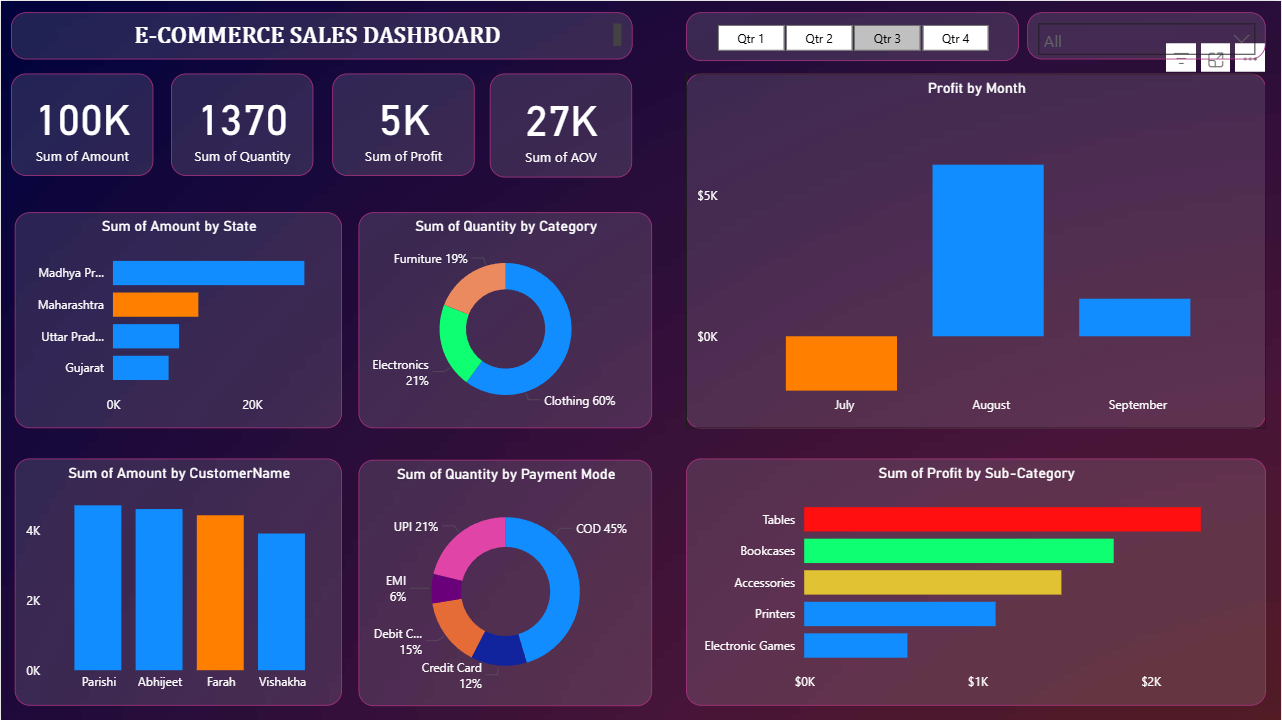

What the dashboard file says about the page in this screenshot:
{"tool":"powerbi","page":{"name":"Page 1","canvas":[1280,720],"ordinal":0},"visuals":[{"type":"textbox","box":[10,11.2,621.2,47.5],"z":0},{"type":"columnChart","title":"Profit by Month","fields":{"Category":["Orders_Updated.Order Date.Variation.Date Hierarchy.Month"],"Y":["Details.Profit"]},"box":[685,72.5,580,355],"z":1000},{"type":"clusteredBarChart","fields":{"Category":["Details.Sub-Category"],"Y":["Details.Profit"]},"box":[685,457.5,580,247.5],"z":2000},{"type":"card","fields":{"Values":["Details.Amount"]},"box":[10,72.5,142.5,102.5],"z":3000},{"type":"donutChart","title":"Sum of Quantity by Payment Mode","fields":{"Y":["Details.Quantity"],"Series":["Details.PaymentMode"]},"box":[357.5,458.8,293.8,246.2],"z":4000},{"type":"card","fields":{"Values":["Details.Quantity"]},"box":[170,72.5,142.5,102.5],"z":5000},{"type":"card","fields":{"Values":["Details.AOV"]},"box":[488.8,72.5,142.5,103.8],"z":6000},{"type":"card","fields":{"Values":["Details.Profit"]},"box":[331.2,72.5,142.5,102.5],"z":7000},{"type":"donutChart","title":"Sum of Quantity by Category","fields":{"Y":["Details.Quantity"],"Category":["Details.Category"]},"box":[357.5,211.2,293.8,216.2],"z":8000},{"type":"clusteredBarChart","title":"Sum of Amount by State","fields":{"Category":["Orders_Updated.State"],"Y":["Details.Amount"]},"box":[13.8,211.2,327.5,216.2],"z":9000},{"type":"columnChart","fields":{"Category":["Orders_Updated.CustomerName"],"Y":["Details.Amount"]},"box":[13.8,457.5,327.5,247.5],"z":10000},{"type":"slicer","fields":{"Values":["Orders_Updated.Order Date.Variation.Date Hierarchy.Quarter"]},"box":[685,11.2,332.5,48.8],"z":11000},{"type":"slicer","fields":{"Values":["Orders_Updated.State"]},"box":[1026.2,11.2,238.8,47.5],"z":12000}]}

Visuals, with their boxes in screenshot pixels (x1, y1, x2, y2), scaled from the page's 1280x720 canvas onto the 1282x720 screenshot:
textbox: locate(10, 11, 632, 59)
"Profit by Month" columnChart: locate(686, 72, 1267, 428)
clusteredBarChart - Details.Sub-Category x Details.Profit: locate(686, 458, 1267, 705)
card - Details.Amount: locate(10, 72, 153, 175)
"Sum of Quantity by Payment Mode" donutChart: locate(358, 459, 652, 705)
card - Details.Quantity: locate(170, 72, 313, 175)
card - Details.AOV: locate(490, 72, 632, 176)
card - Details.Profit: locate(332, 72, 474, 175)
"Sum of Quantity by Category" donutChart: locate(358, 211, 652, 427)
"Sum of Amount by State" clusteredBarChart: locate(14, 211, 342, 427)
columnChart - Orders_Updated.CustomerName x Details.Amount: locate(14, 458, 342, 705)
slicer - Orders_Updated.Order Date.Variation.Date Hierarchy.Quarter: locate(686, 11, 1019, 60)
slicer - Orders_Updated.State: locate(1028, 11, 1267, 59)
